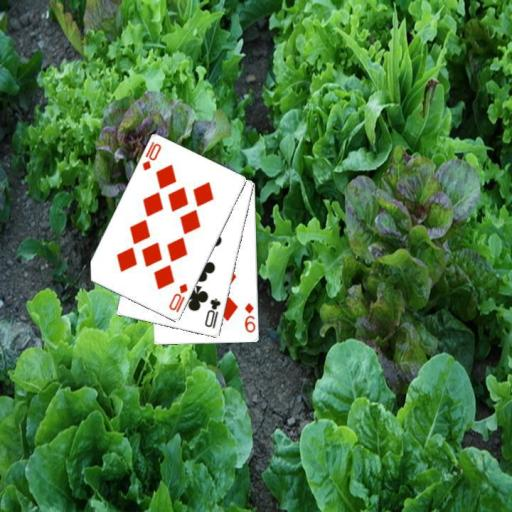10C: (202, 295, 223, 330)
10D: (139, 138, 163, 173), (166, 280, 189, 314)
9D: (242, 300, 256, 334)
